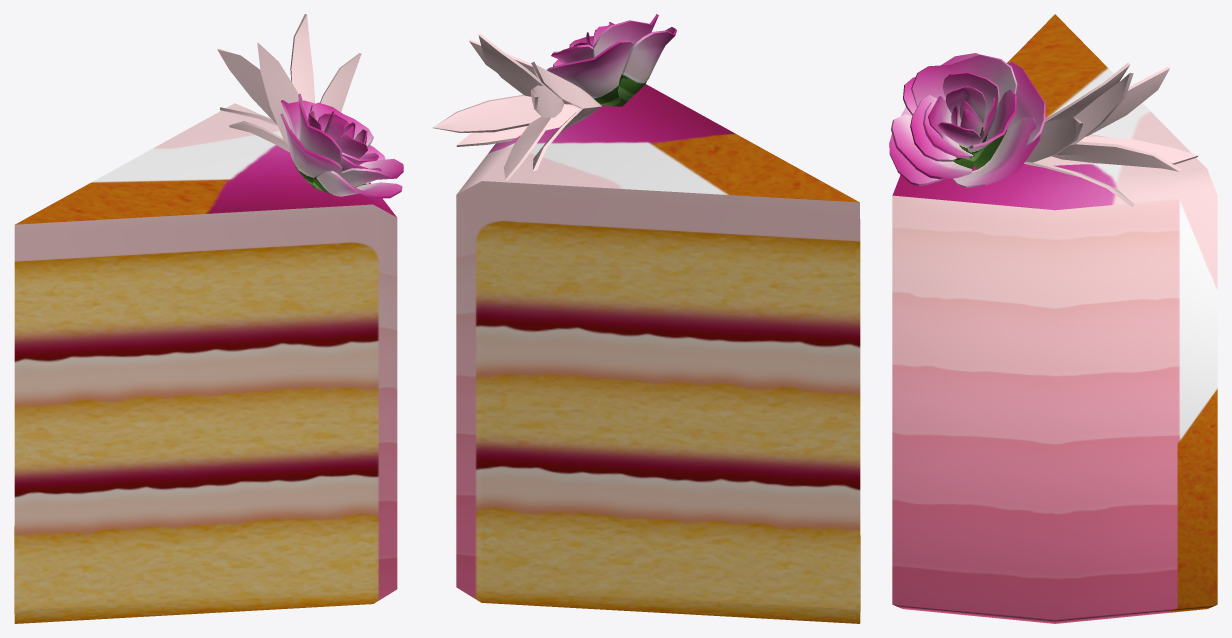
The model's file is Wedding_02_Slice_Bottom.fbx.
The picture shows the model from 3 angles, left to right: view 1: azimuth 30°, elevation 25°; view 2: azimuth 150°, elevation 25°; view 3: azimuth 270°, elevation 25°; orthographic projection. The views are drawn at different scales.
Visible parts, largest first — view 1: Wedding_02_Slice_Bottom; view 2: Wedding_02_Slice_Bottom; view 3: Wedding_02_Slice_Bottom.
Boxes of the visible parts, x1,y1,x2,y2 form: Wedding_02_Slice_Bottom: [14, 14, 403, 623]; Wedding_02_Slice_Bottom: [433, 14, 860, 623]; Wedding_02_Slice_Bottom: [889, 14, 1217, 623].
Bounding box in the file's own units: 63.52 × 85.52 × 45.76.
